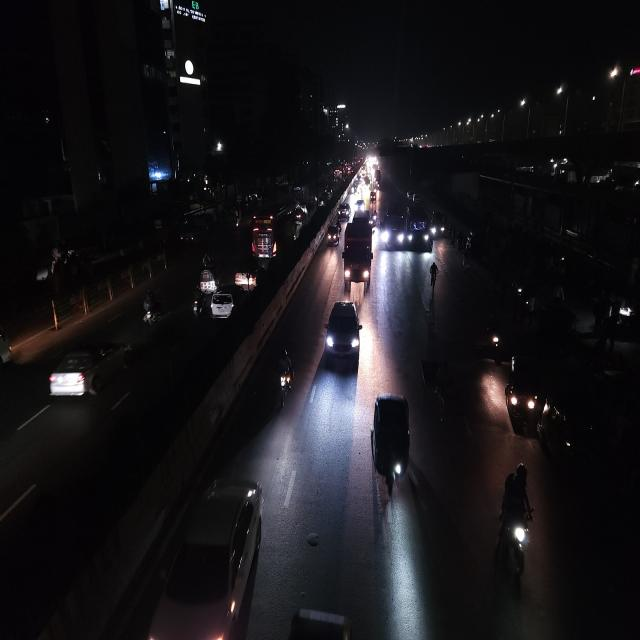bicycle: (427, 259, 441, 289)
bus: (249, 203, 294, 265), (407, 202, 431, 254)
car: (145, 476, 268, 640), (44, 333, 132, 408), (322, 297, 363, 369), (381, 203, 408, 254), (209, 287, 239, 327), (234, 262, 262, 292), (431, 208, 448, 240), (337, 202, 351, 224), (355, 196, 365, 213)
cng: (368, 390, 412, 505), (503, 351, 541, 434), (196, 265, 218, 295), (326, 220, 342, 248), (368, 190, 378, 208)
motorcycle: (494, 460, 534, 593), (273, 347, 296, 414), (138, 288, 164, 330), (483, 310, 503, 356), (192, 286, 206, 319)
truck: (343, 214, 375, 292)
